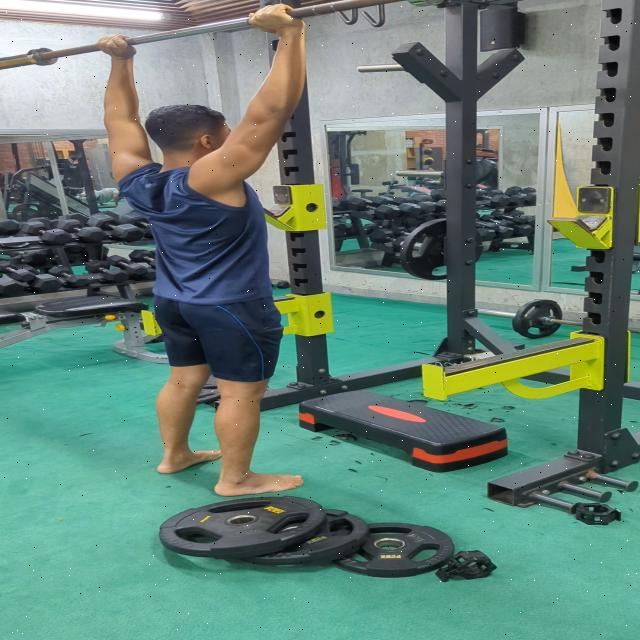Normal_OverheadPress: (82, 0, 379, 498)
